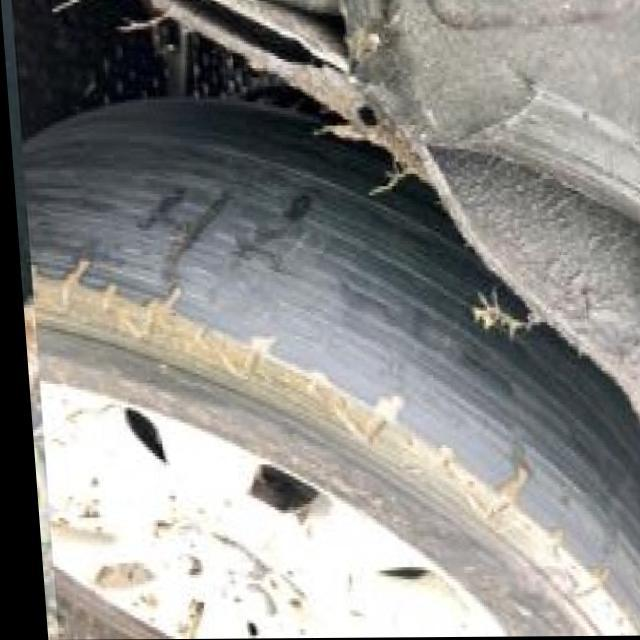Flat spots: (115, 106, 279, 310), (292, 184, 416, 364), (435, 322, 566, 468)
